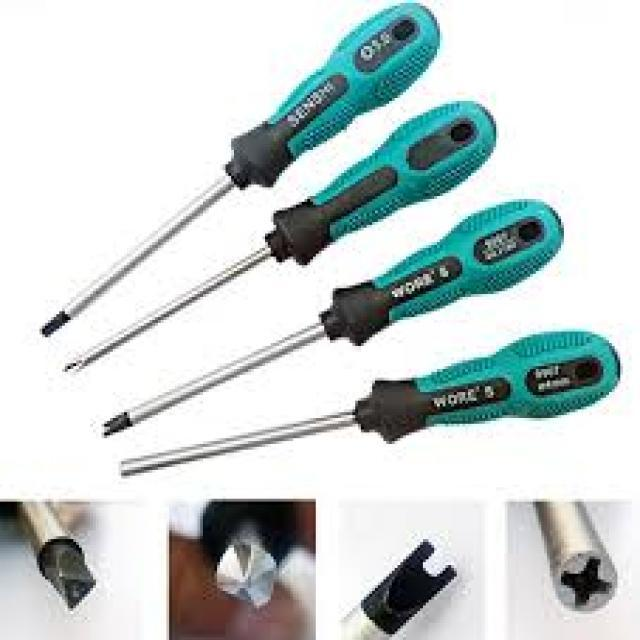screwdriver: (41, 0, 450, 340), (58, 95, 509, 381), (81, 192, 566, 440), (112, 324, 620, 480)
